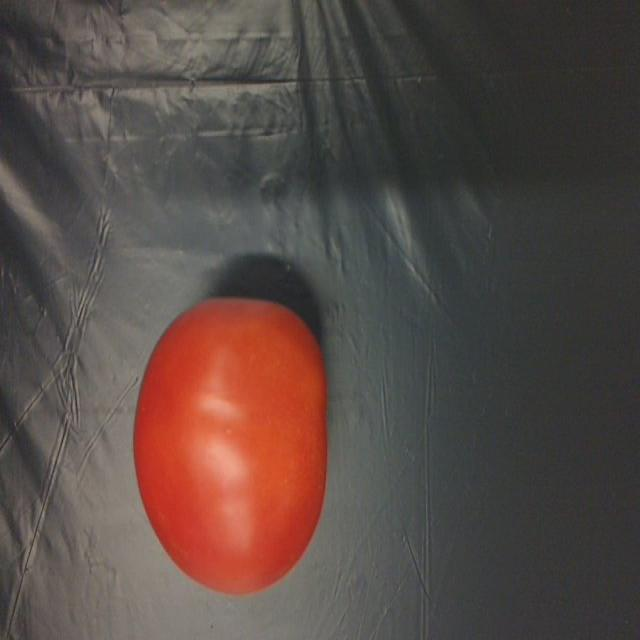kirmizi: (110, 290, 360, 598)
